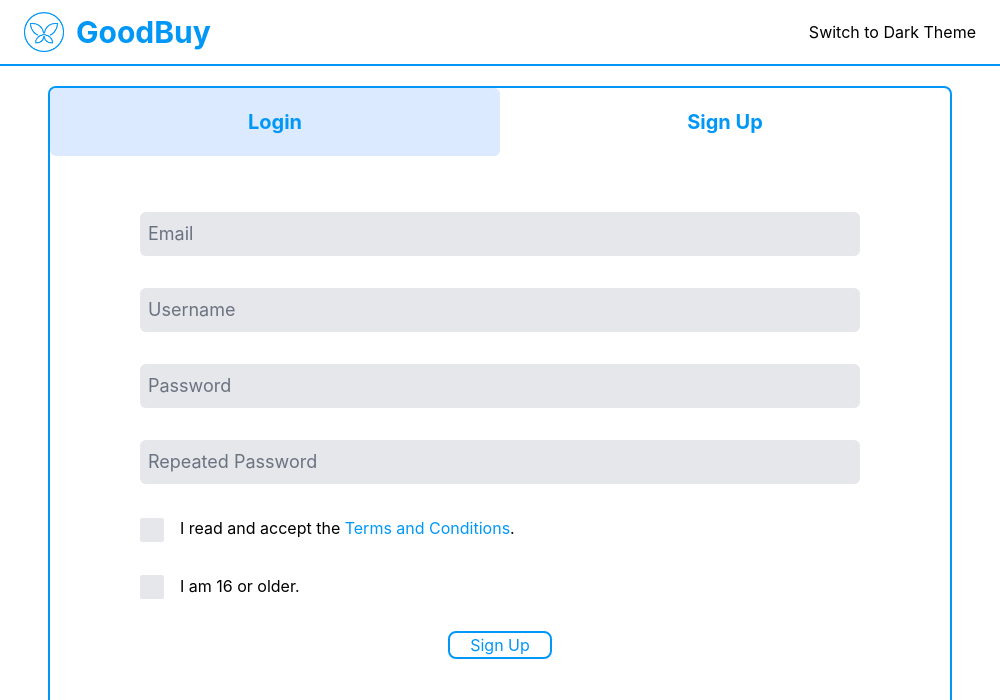
it: Test Sign Up › Should register a new user
The width and height of the screenshot is (1000, 700).
Step 1. Type "tester2@mail.co" into the field with placeholder "Email" → (500, 234), box x1=140 y1=212 x2=860 y2=256
Step 2. Type "testeruser" into the field with placeholder "Username" → (500, 310), box x1=140 y1=288 x2=860 y2=332
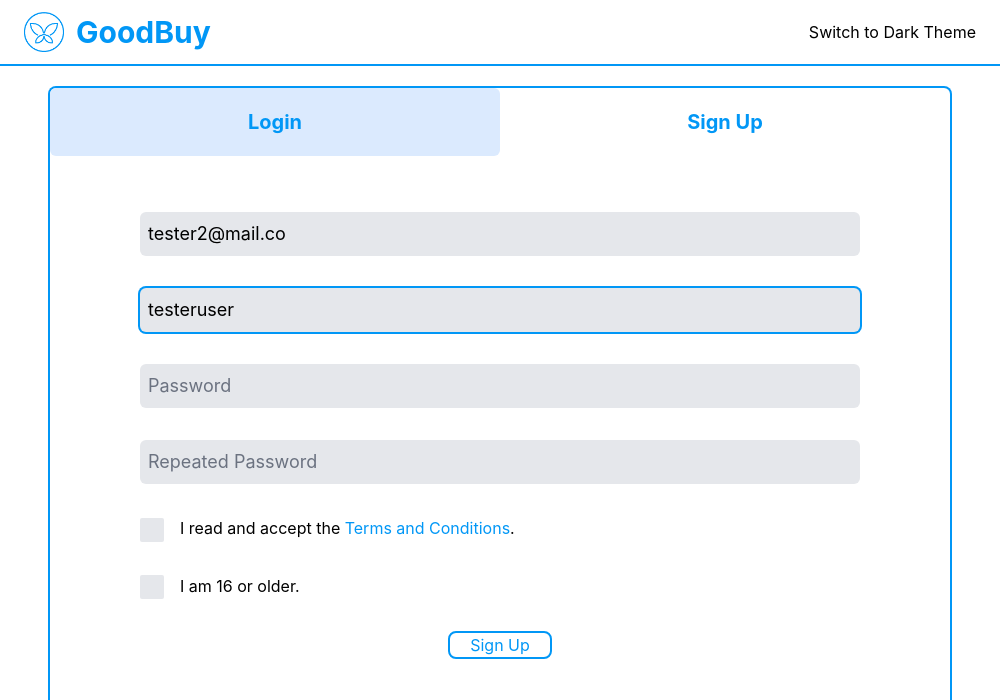
Step 3. Type "Password1!" into the password field with placeholder "Password" → (500, 386), box x1=140 y1=364 x2=860 y2=408
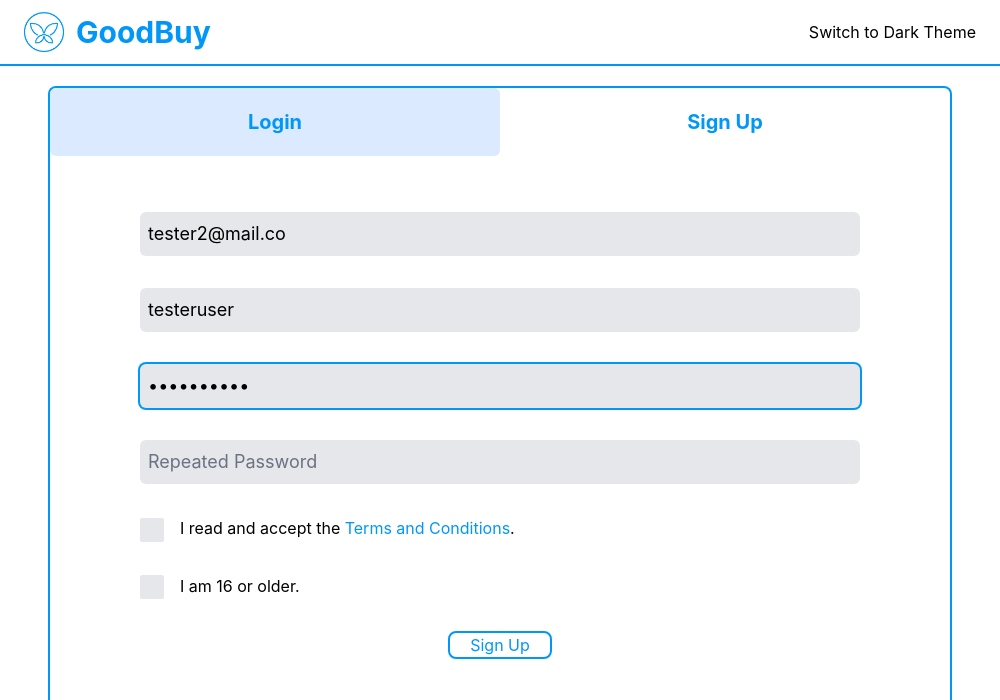
Step 4. Type "Password1!" into the password field with placeholder "Repeated Password" → (500, 462), box x1=140 y1=440 x2=860 y2=484
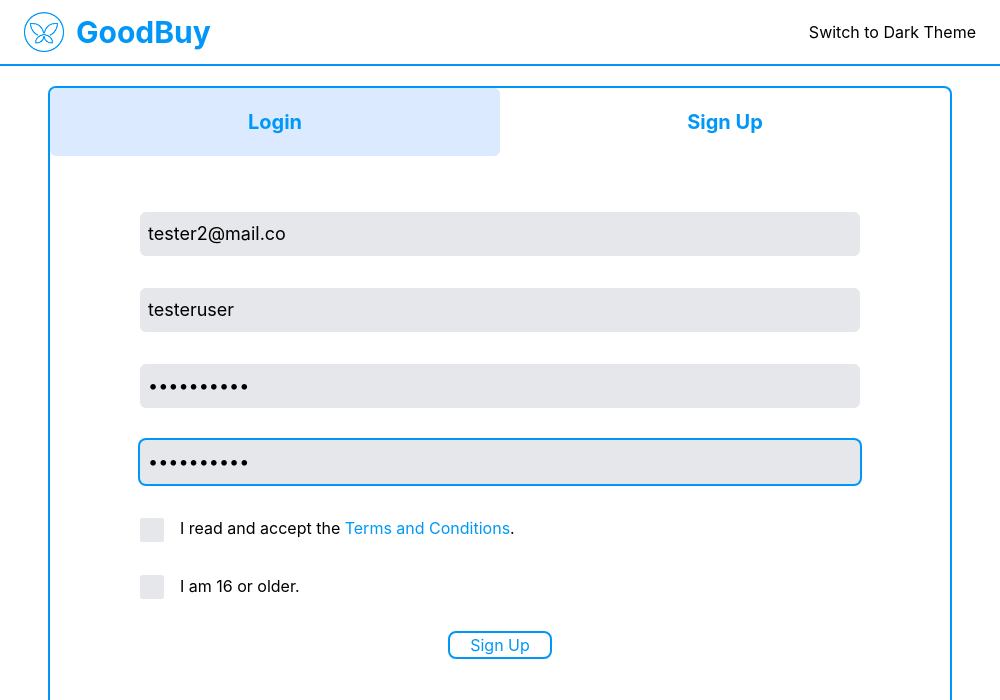
Step 5. Click the checkbox named "I read and accept the Terms and Conditions." → (152, 530), box x1=140 y1=518 x2=164 y2=542
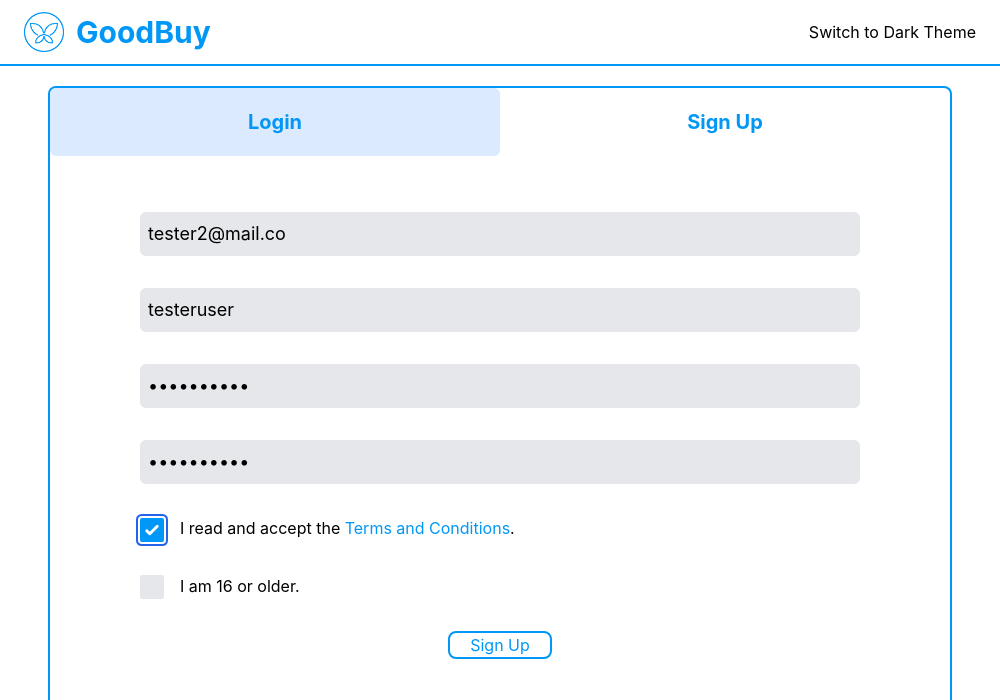
Step 6. Click the checkbox labelled "I am 16 or older." → (152, 587), box x1=140 y1=575 x2=164 y2=599
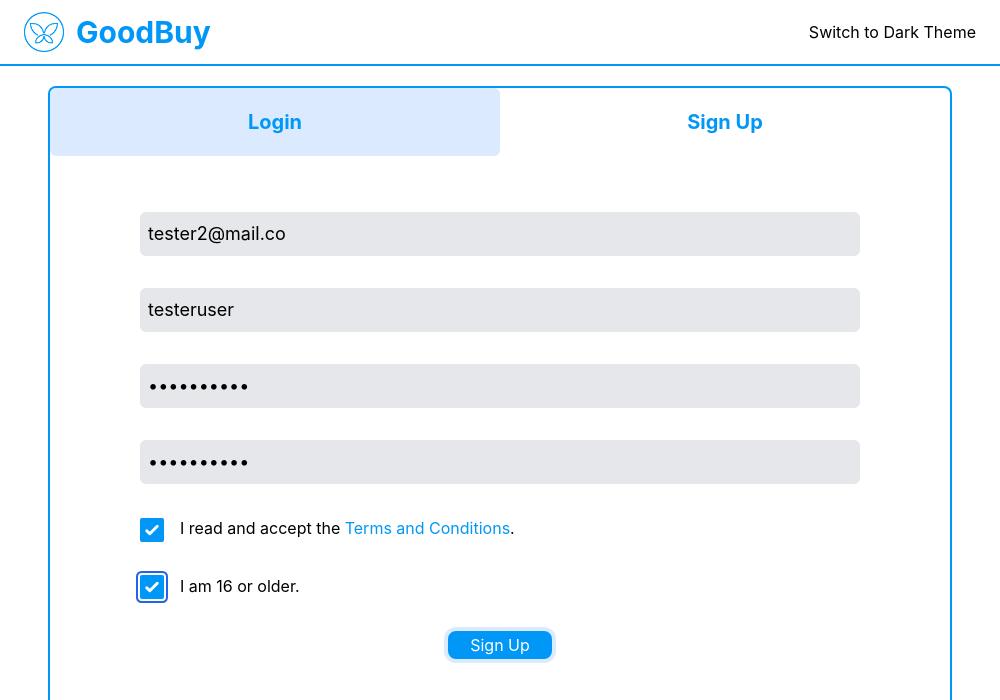
Step 7. Click the button with class "colorful-button" → (500, 645), box x1=448 y1=631 x2=552 y2=659
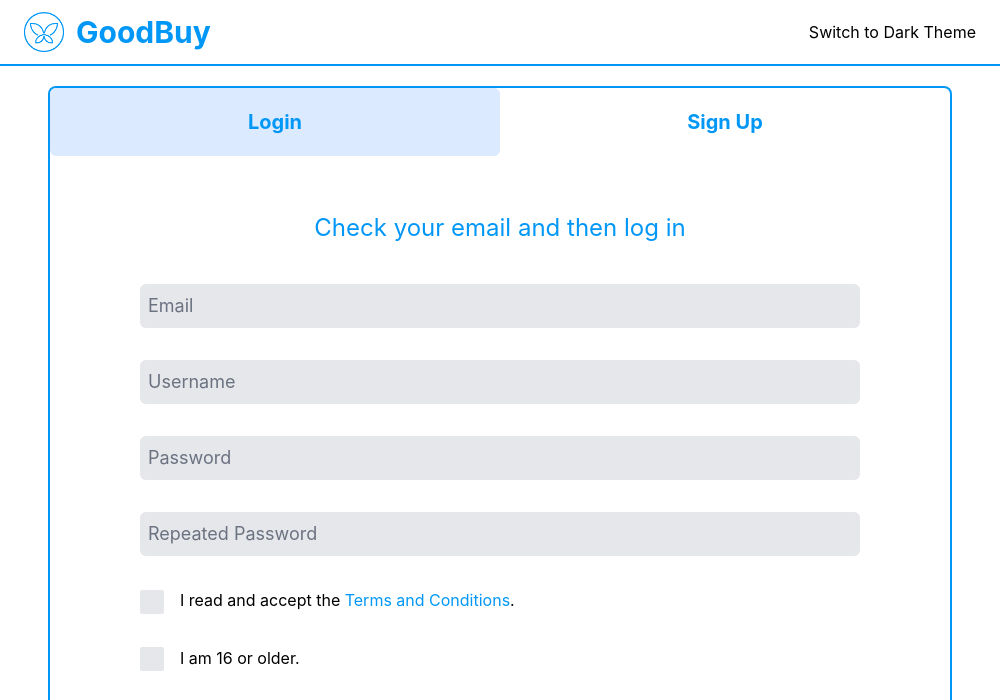
Check: the text "Check your email and then log in" is shown, box x1=314 y1=213 x2=686 y2=242
